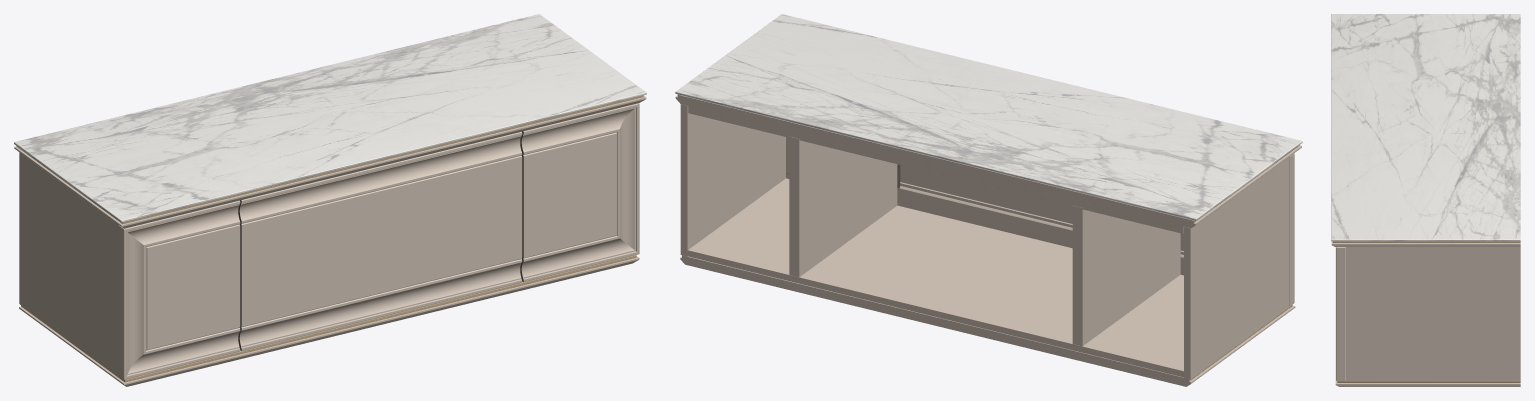
3 renders of one model, left to right at view 1: azimuth 30°, elevation 25°; view 2: azimuth 150°, elevation 25°; view 3: azimuth 270°, elevation 25°, orthographic. The views are drawn at different scales.
Visible parts, largest first — view 1: BL03.002, болванка 2.002; view 2: BL03.002, болванка 2.002; view 3: BL03.002, болванка 2.002.
Boxes of the visible parts, left/top/right/bottom form: BL03.002: left=14, top=14, right=646, bottom=386; болванка 2.002: left=118, top=103, right=639, bottom=379; BL03.002: left=675, top=14, right=1302, bottom=386; болванка 2.002: left=786, top=137, right=1294, bottom=306; BL03.002: left=1331, top=14, right=1520, bottom=386; болванка 2.002: left=1336, top=247, right=1345, bottom=380.
Size of the model in its own units: 1.4 by 0.438 by 0.496.
Materials: 4 (1 with a texture image).
